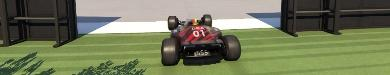Car: (160, 14, 241, 65)
Tree: (70, 58, 146, 74)
grass: (0, 28, 389, 73)
obstacles-Borders: (279, 0, 389, 35), (0, 0, 78, 46)
